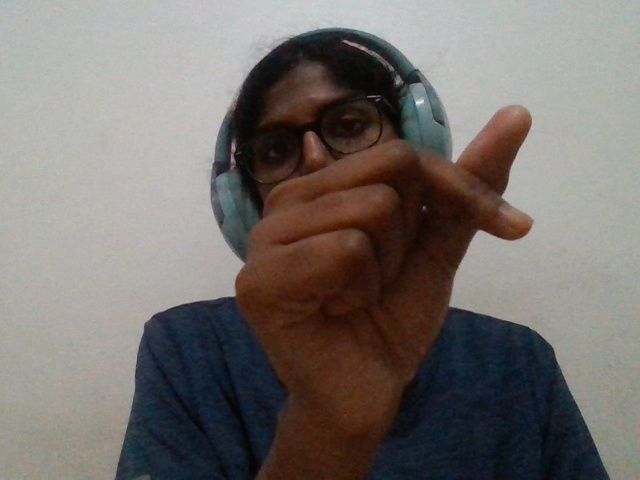G: (212, 93, 559, 467)
